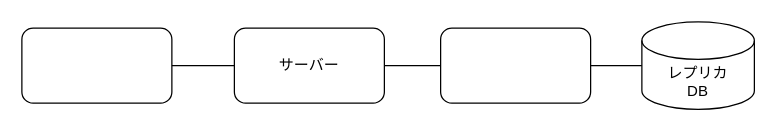
The diagram is 776 pixels wide and 131 high, and some of its shapes have lost their labels. Each missing label, with the centre of its shape:
"キャッシュ" belongs at (515,65).
"クライアント" belongs at (96,65).
